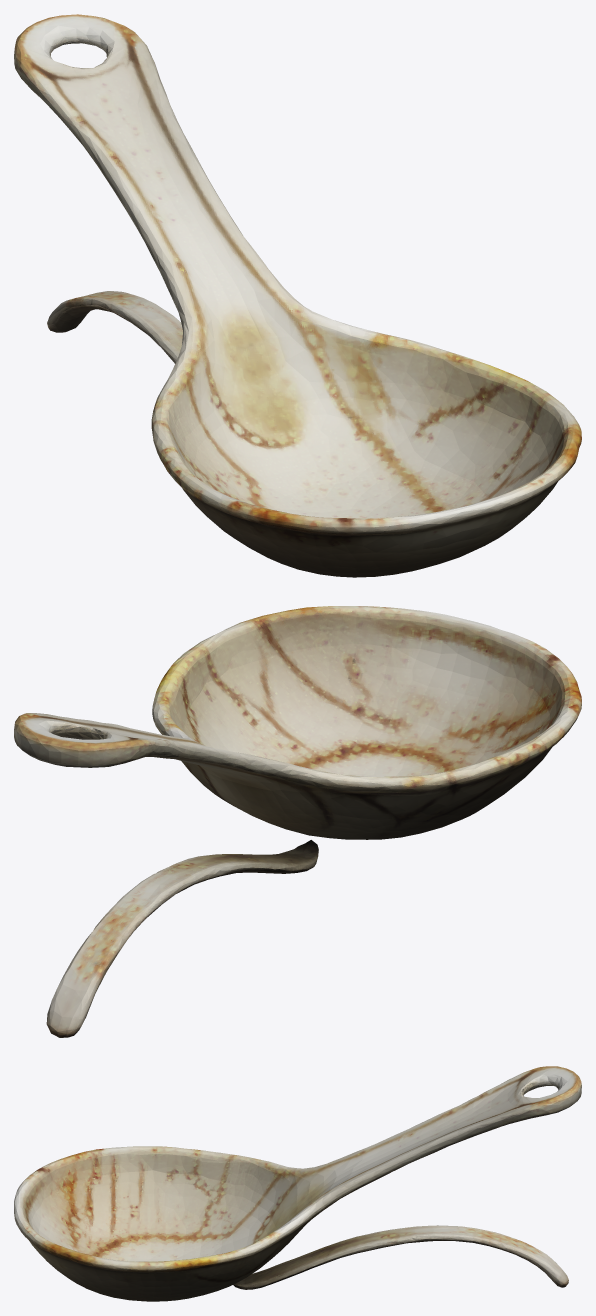
Rendered from porcelain-ladle-used-rustic-worn.jpeg.glb.
3 views of the same model, one above another, from view 1: azimuth 30°, elevation 25°; view 2: azimuth 150°, elevation 25°; view 3: azimuth 270°, elevation 25° (orthographic). The views are drawn at different scales.
Parts seen in each view (by area): view 1: world; view 2: world; view 3: world.
Boxes of the visible parts, x1,y1,x2,y2 form: world: (14,14,581,577); world: (14,606,581,1037); world: (14,1066,581,1301).
Size of the model in its own units: 0.5019 by 0.4019 by 0.9997.
1 material, 1 textured.
